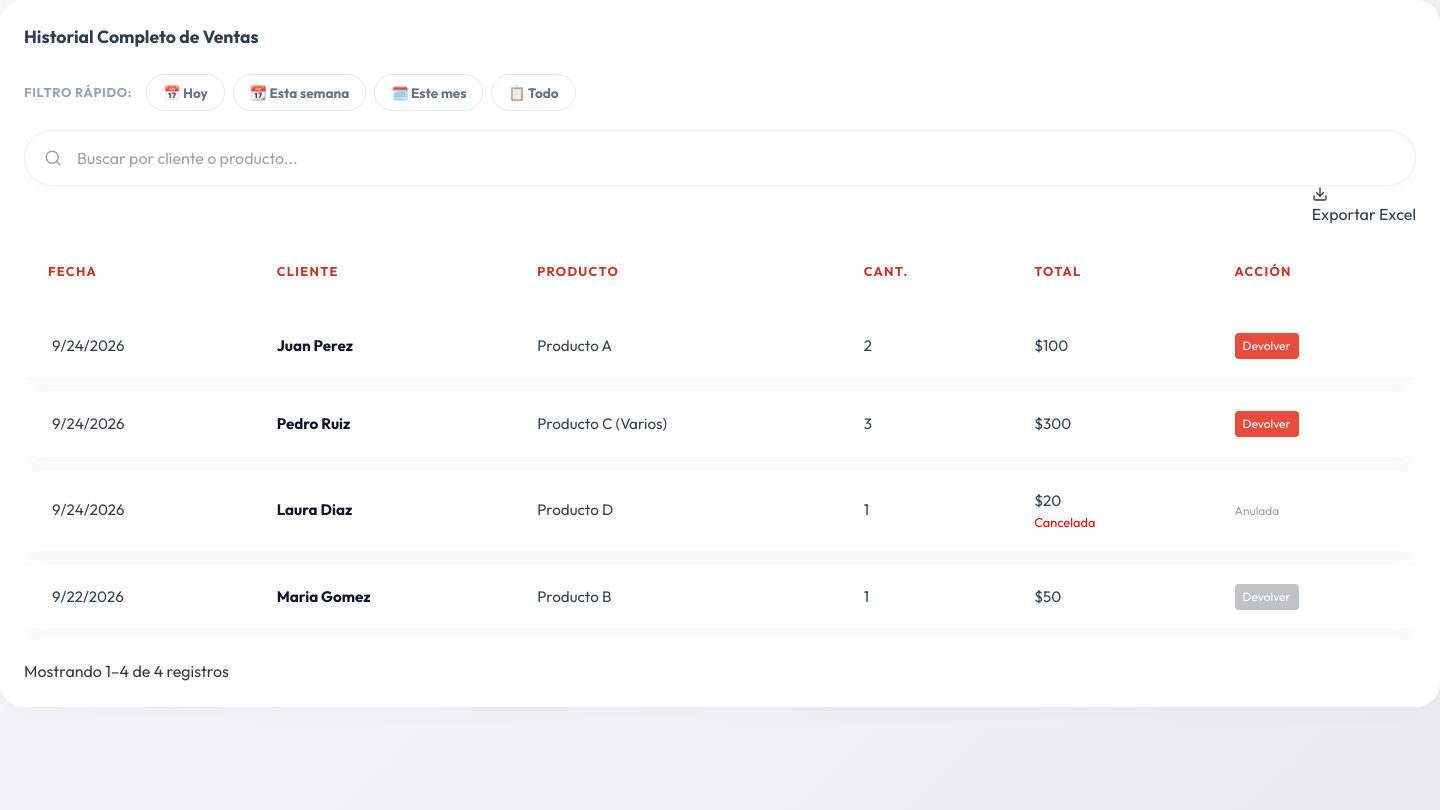
Test: Matriz de Casos de Prueba - Anulación de Ventas (CP-RF007.4) › CP-RF007.4-02: Validar que el sistema impida anular una venta sin justificación (FE-02)
Click the button "Devolver" in the row of "Juan Perez".
click(1266, 346)  # box [1234, 333, 1298, 359]
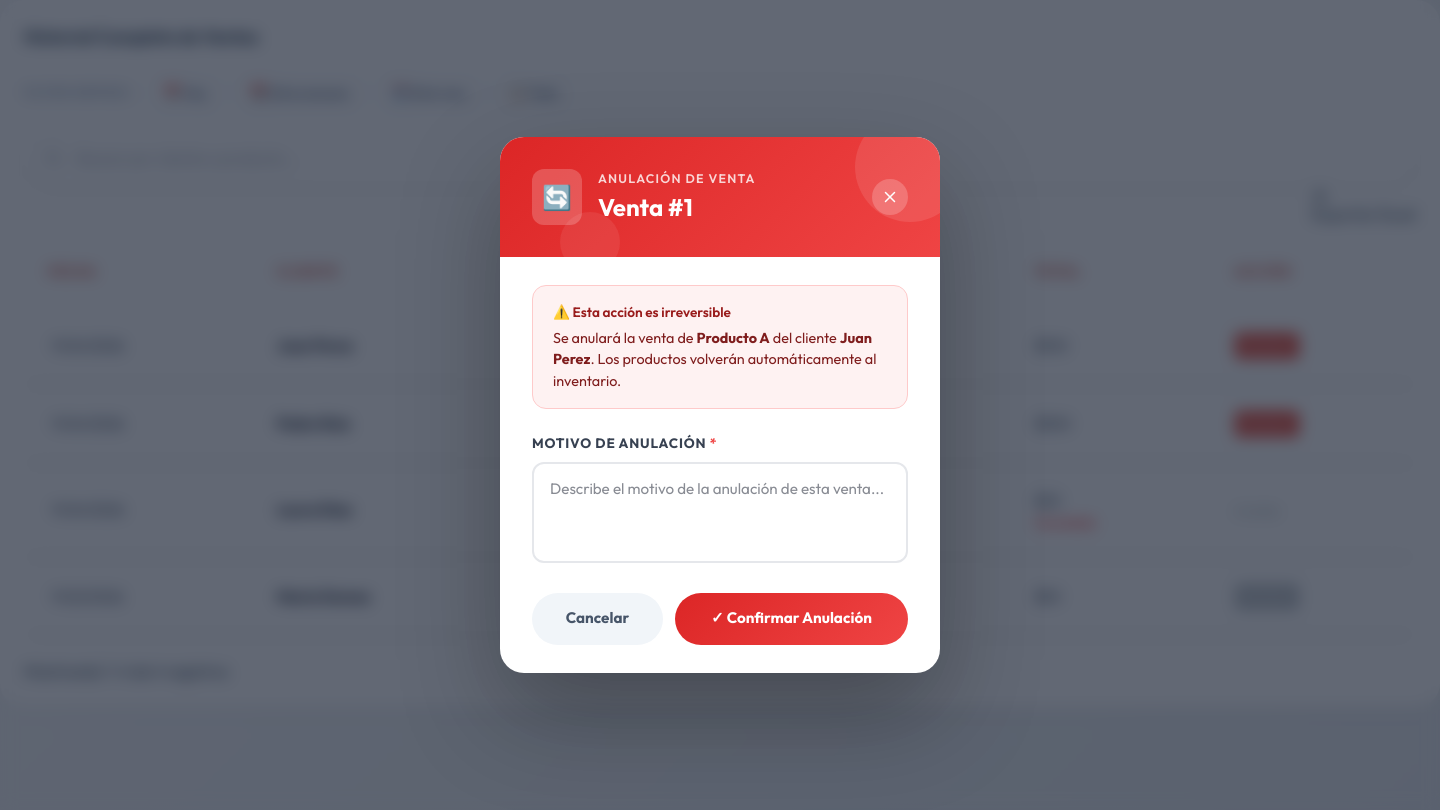
Expected: the text box with placeholder "Describe el motivo de la anulación de esta venta..." is empty, [532, 462, 908, 563]
Click the button "✓ Confirmar Anulación".
click(791, 619)  # box [675, 593, 908, 645]
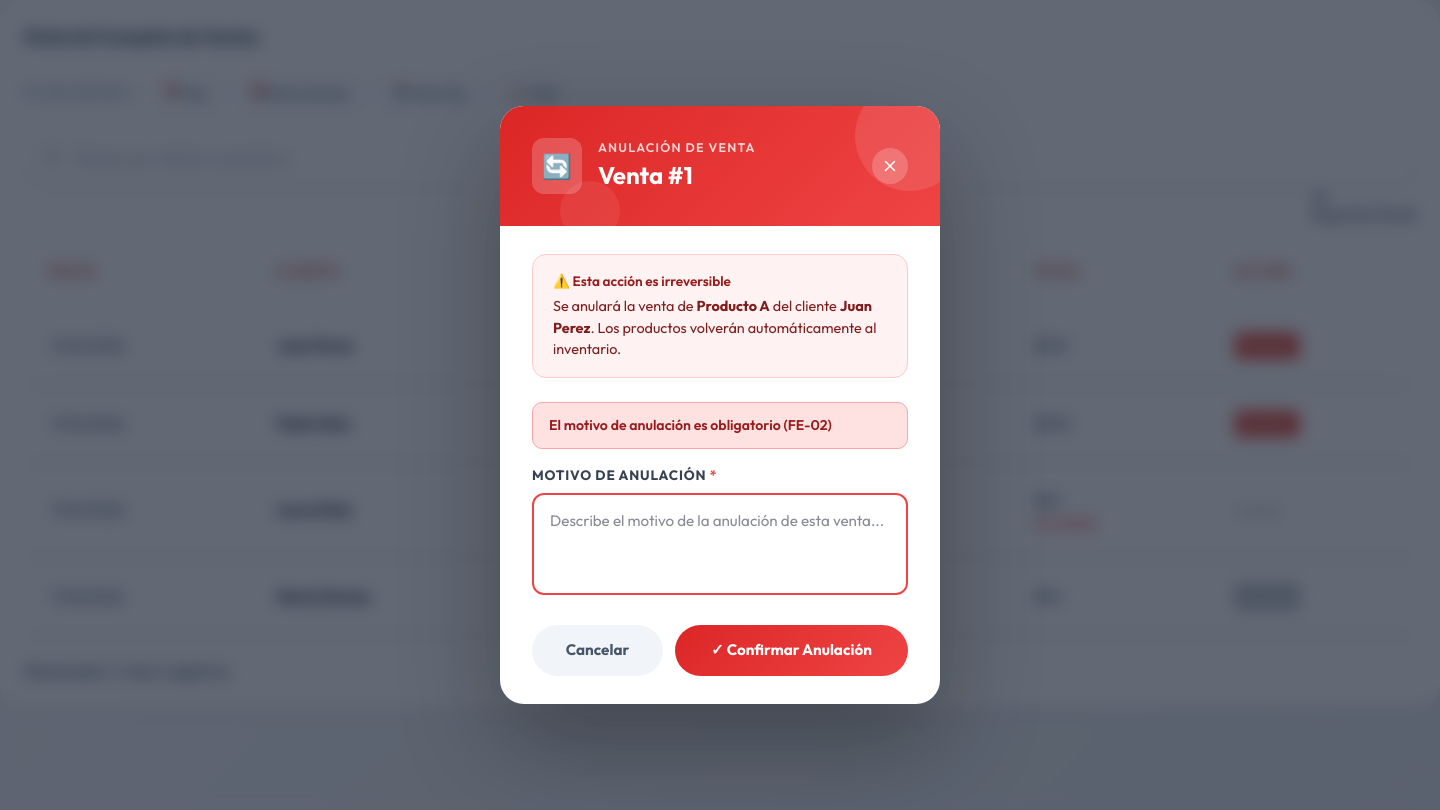
Expected: the text "El motivo de anulación es obligatorio (FE-02)" is shown, [532, 402, 908, 449]
